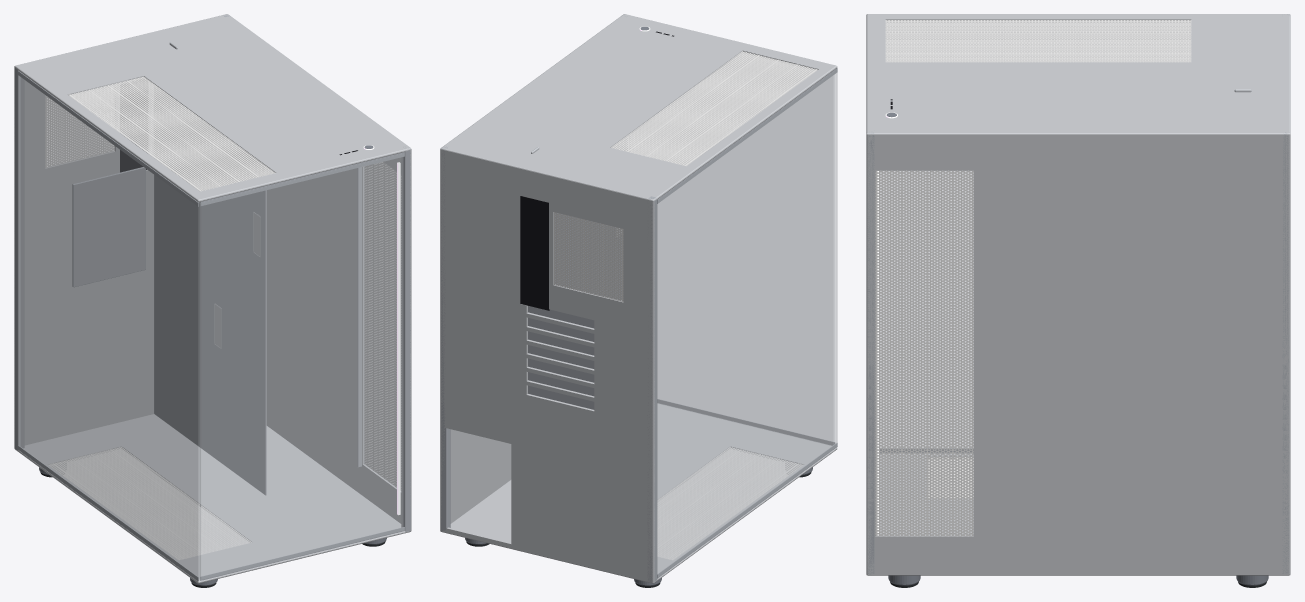
The model's file is case-bitlab-tower_lod2.glb.
The picture shows the model from 3 angles, left to right: view 1: azimuth 30°, elevation 25°; view 2: azimuth 150°, elevation 25°; view 3: azimuth 270°, elevation 25°; orthographic projection. The views are drawn at different scales.
Visible parts, largest first — view 1: case_CaseSolid, glass_front, glass_side, case_Perforated, case_RGB; view 2: case_CaseSolid, glass_side, glass_front, case_Perforated; view 3: case_CaseSolid, case_Perforated, glass_side, case_RGB.
Part boxes in pixels (<box>): case_CaseSolid: <box>14,14,411,587</box>; glass_front: <box>200,154,403,579</box>; glass_side: <box>18,73,200,580</box>; case_Perforated: <box>45,76,401,560</box>; case_RGB: <box>363,145,400,514</box>; case_CaseSolid: <box>440,14,837,587</box>; glass_side: <box>657,69,837,576</box>; glass_front: <box>657,75,834,445</box>; case_Perforated: <box>554,51,817,560</box>; case_CaseSolid: <box>866,14,1290,587</box>; case_Perforated: <box>875,20,1191,536</box>; glass_side: <box>880,32,1180,453</box>; case_RGB: <box>877,112,897,535</box>.
Size of the model in its own units: 0.335 by 0.602 by 0.5.
4 materials, 1 textured.
